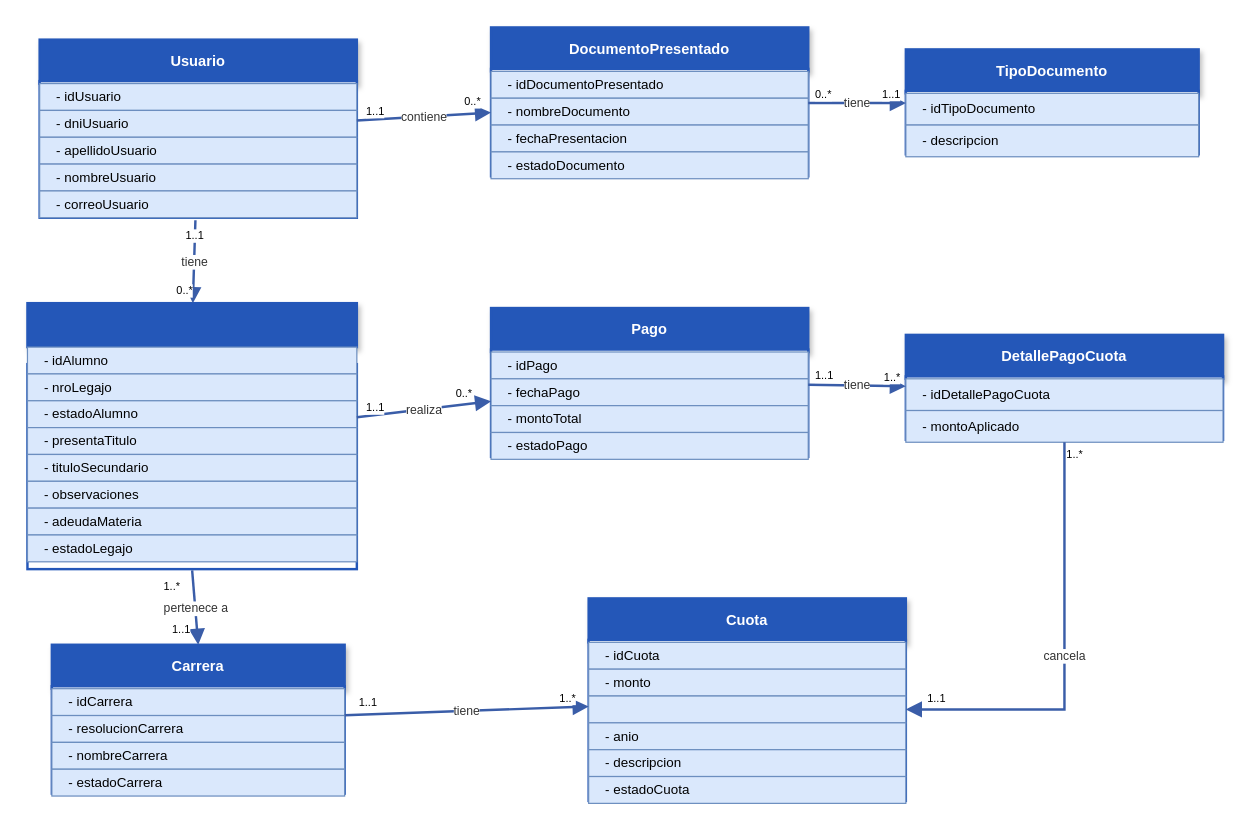
Image size: 1252x825. Some labels were removed from this diagram. Here are the shapes that lost their labels. From the top down, the centre of each, then its label:
point 193,326: Alumno
point 746,709: - mes
